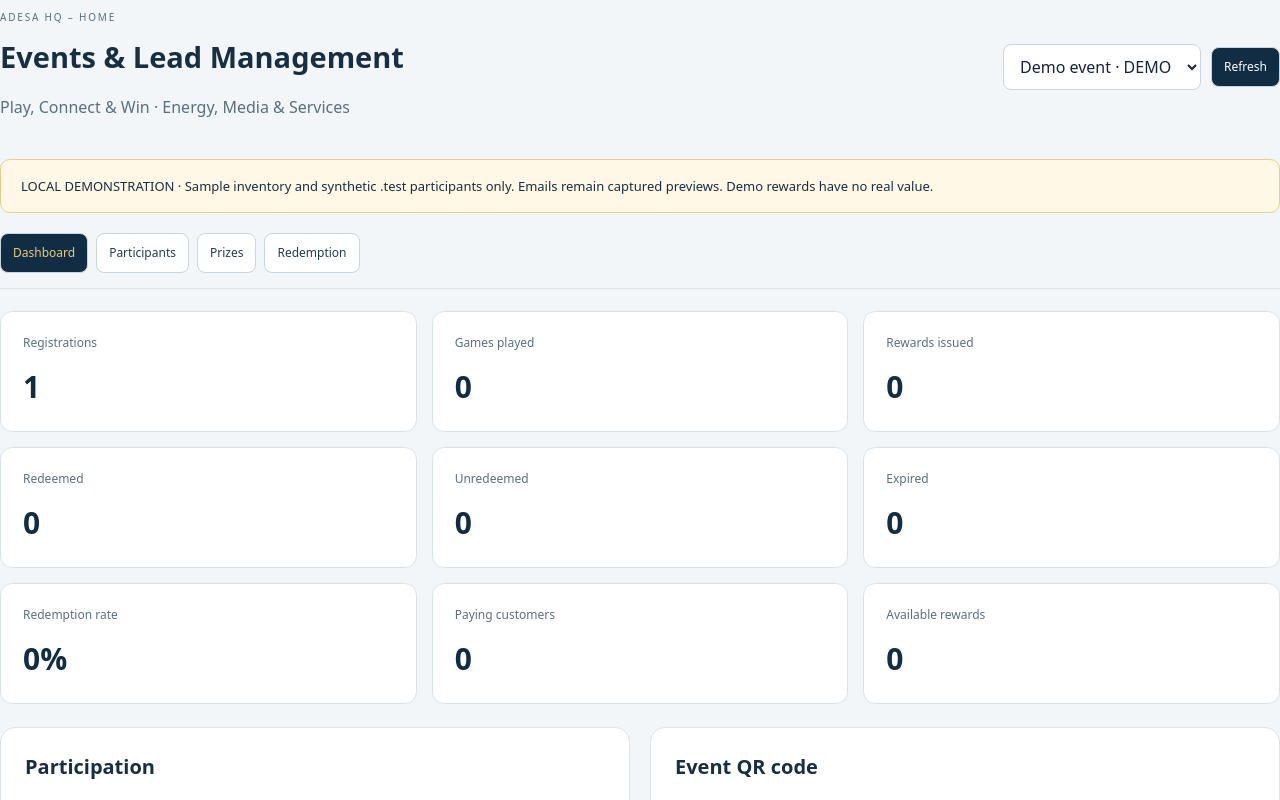
Scenario: shows consent explicitly and allows participant search
Expected: the text "Registrations" is shown, [23,334,97,351]
Click the button "Participants": (142, 253) [96,233,189,273]
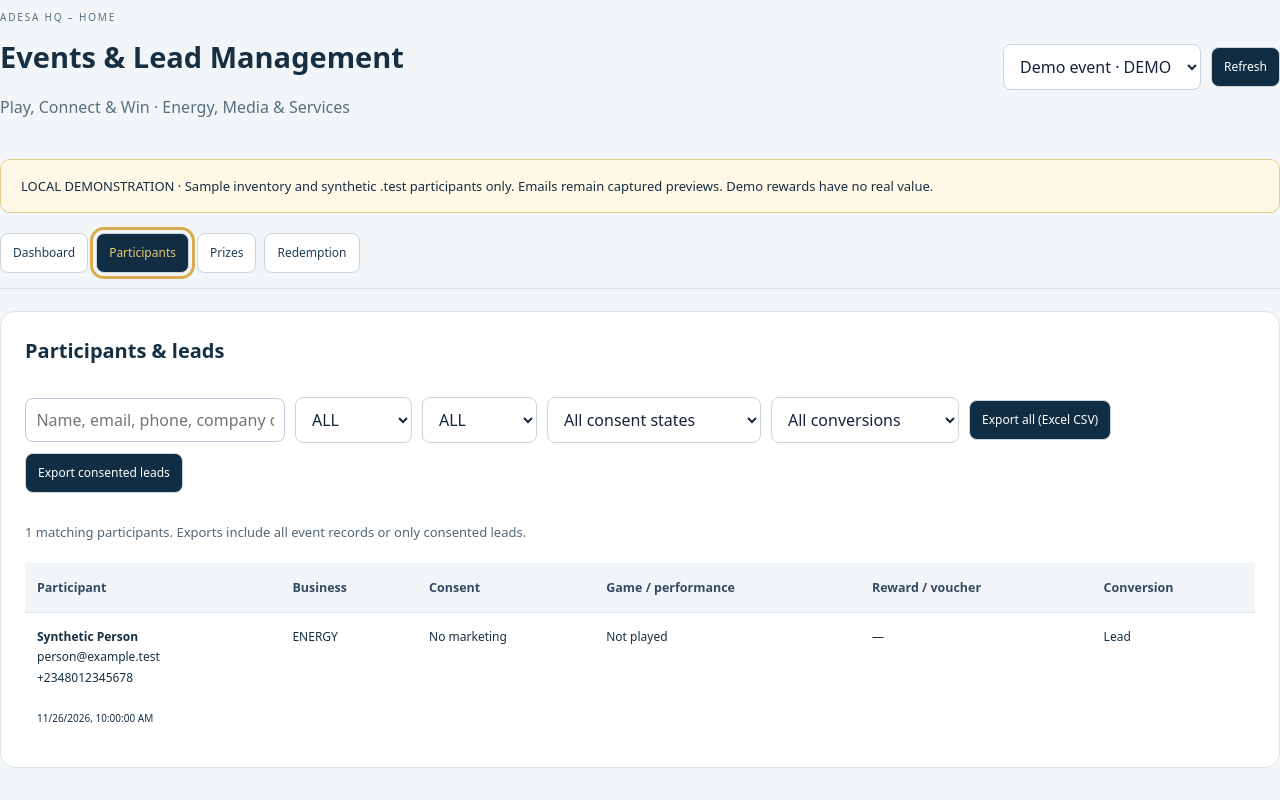
Expected: the text "No marketing" is shown, [417,612,594,743]
In the field named "Search participants": (155, 420) [25,398,285,442], type "no matching name"
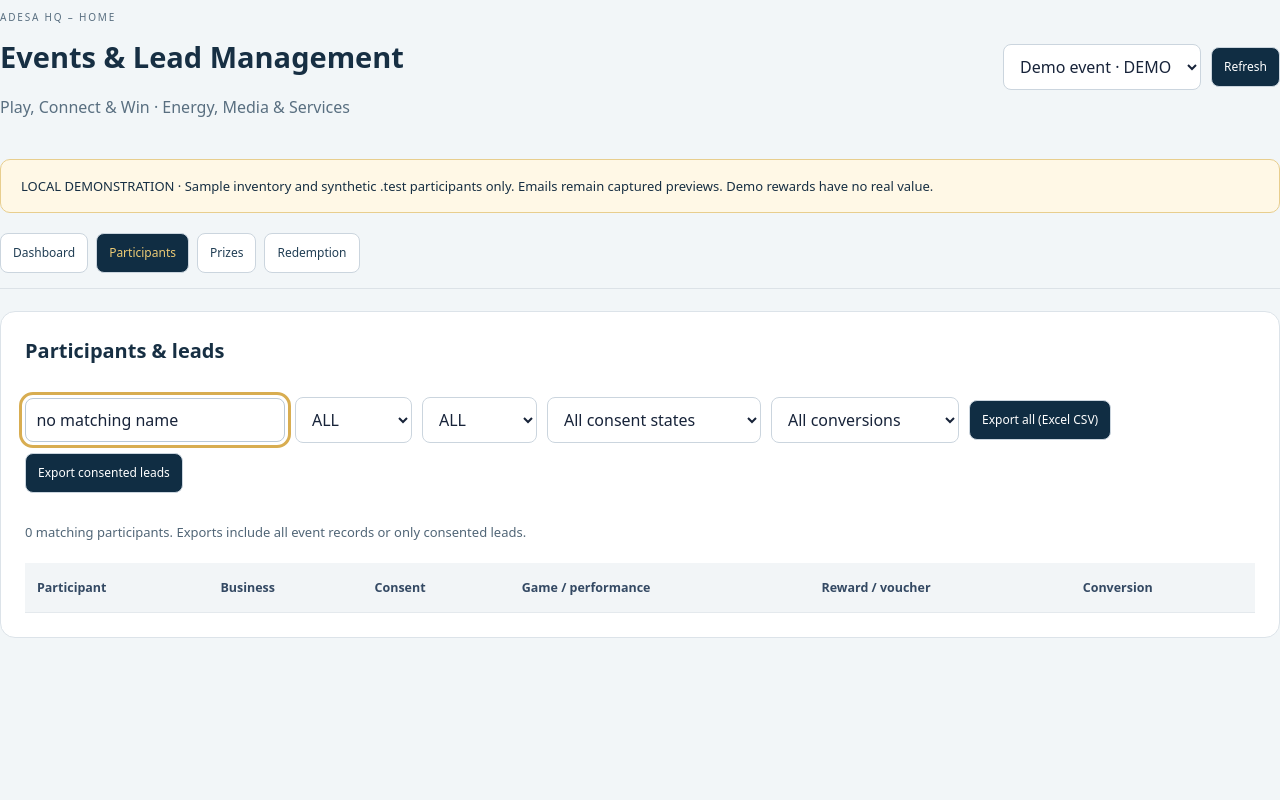
Expected: the text "Synthetic Person" is gone
